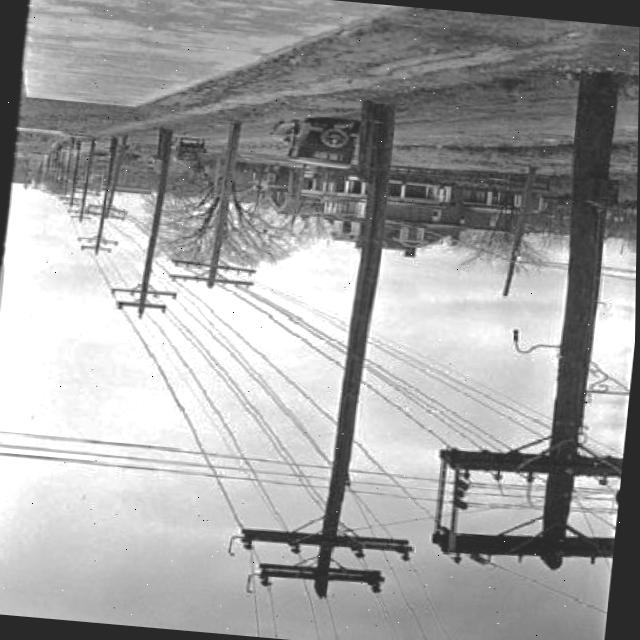poles: (231, 104, 458, 602), (426, 70, 639, 583), (165, 116, 270, 294), (110, 121, 187, 322)
wires: (117, 282, 335, 529), (0, 422, 331, 493), (361, 338, 553, 451), (238, 593, 465, 640), (252, 277, 347, 370), (353, 460, 439, 505)
